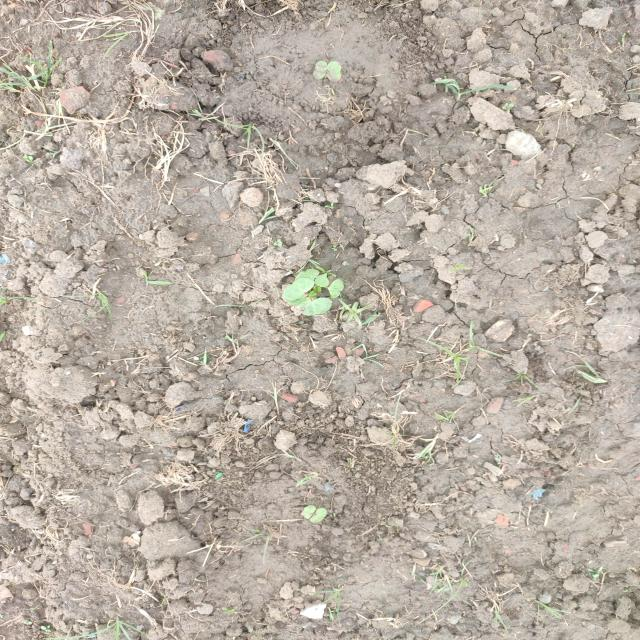seedling_s4: (283, 278, 314, 301), (299, 298, 332, 316), (312, 60, 328, 80), (327, 61, 342, 82), (295, 269, 320, 281), (329, 279, 344, 298), (310, 508, 327, 523), (288, 294, 307, 306), (315, 273, 329, 288), (302, 505, 316, 518)
